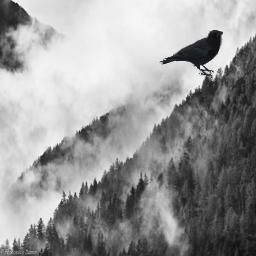Crow: (159, 30, 223, 77)
